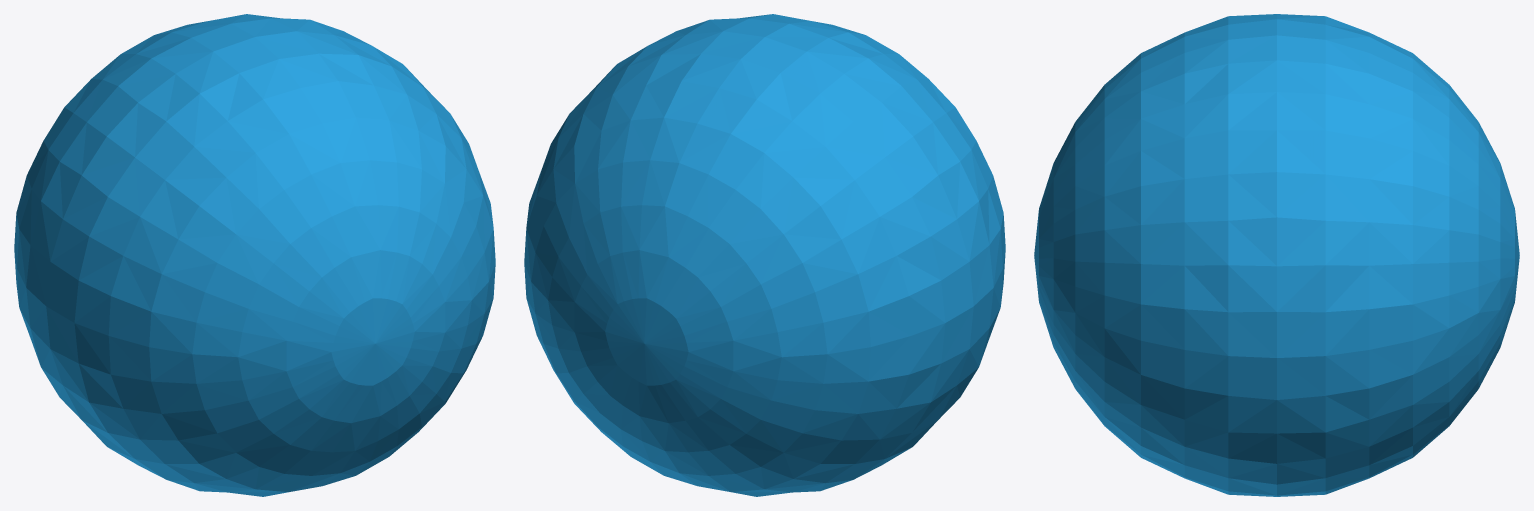
Rendered from BCN3DMoveoLink3.dae.
3 renders of one model, left to right at view 1: azimuth 30°, elevation 25°; view 2: azimuth 150°, elevation 25°; view 3: azimuth 270°, elevation 25°, orthographic.
Visible parts, largest first — view 1: BCN3DLink3; view 2: BCN3DLink3; view 3: BCN3DLink3.
Part boxes in pixels (box(x1,y1,x2,y2)): BCN3DLink3: box(14, 14, 495, 496); BCN3DLink3: box(524, 14, 1005, 496); BCN3DLink3: box(1034, 14, 1519, 496).
Bounding box in the file's own units: 0.0002 × 0.0002 × 0.0002.
